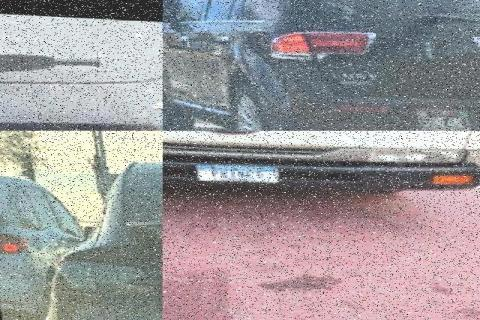LicensePlate: (187, 161, 274, 180), (408, 103, 464, 127)
